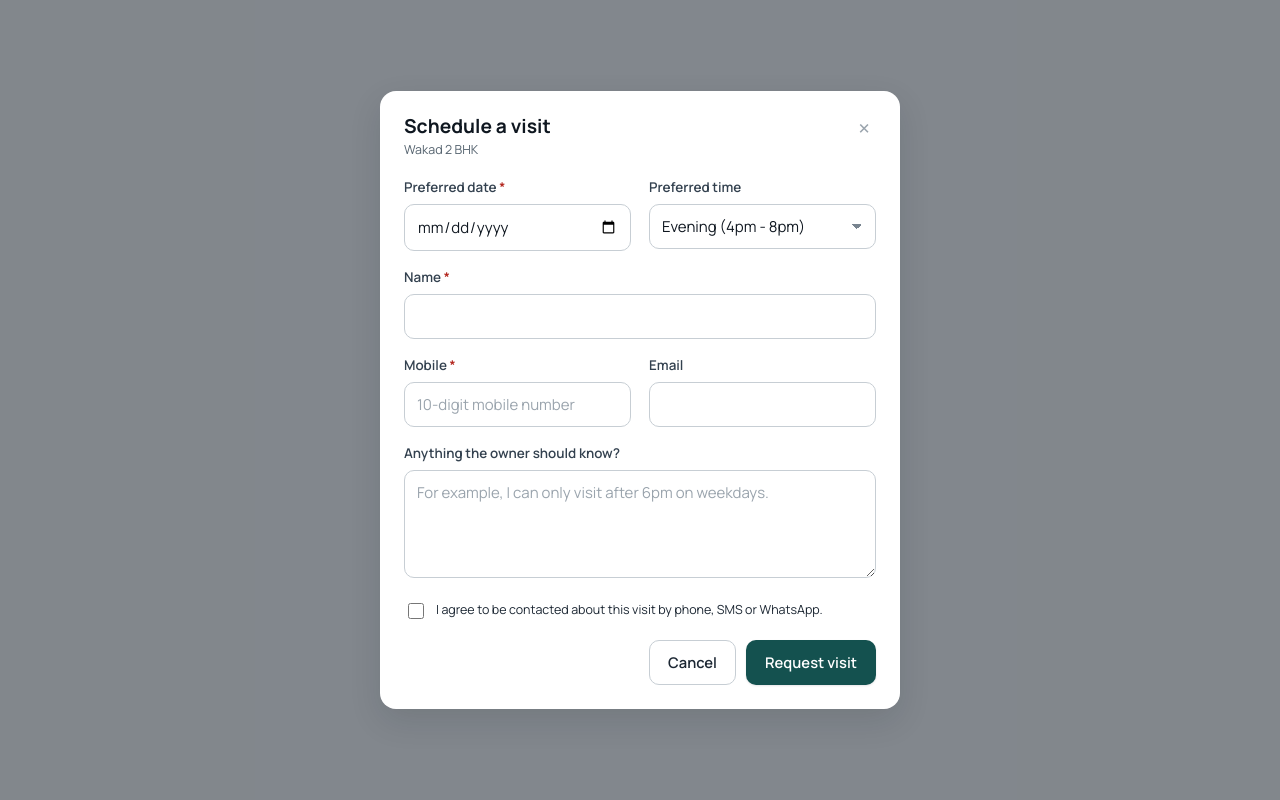
VisitRequestModal › confirms rather than leaving the form on screen to be sent twice
Type "2026-10-01" into the date field labelled "Preferred date *" at {"x": 518, "y": 228}, box [404,204,631,251]
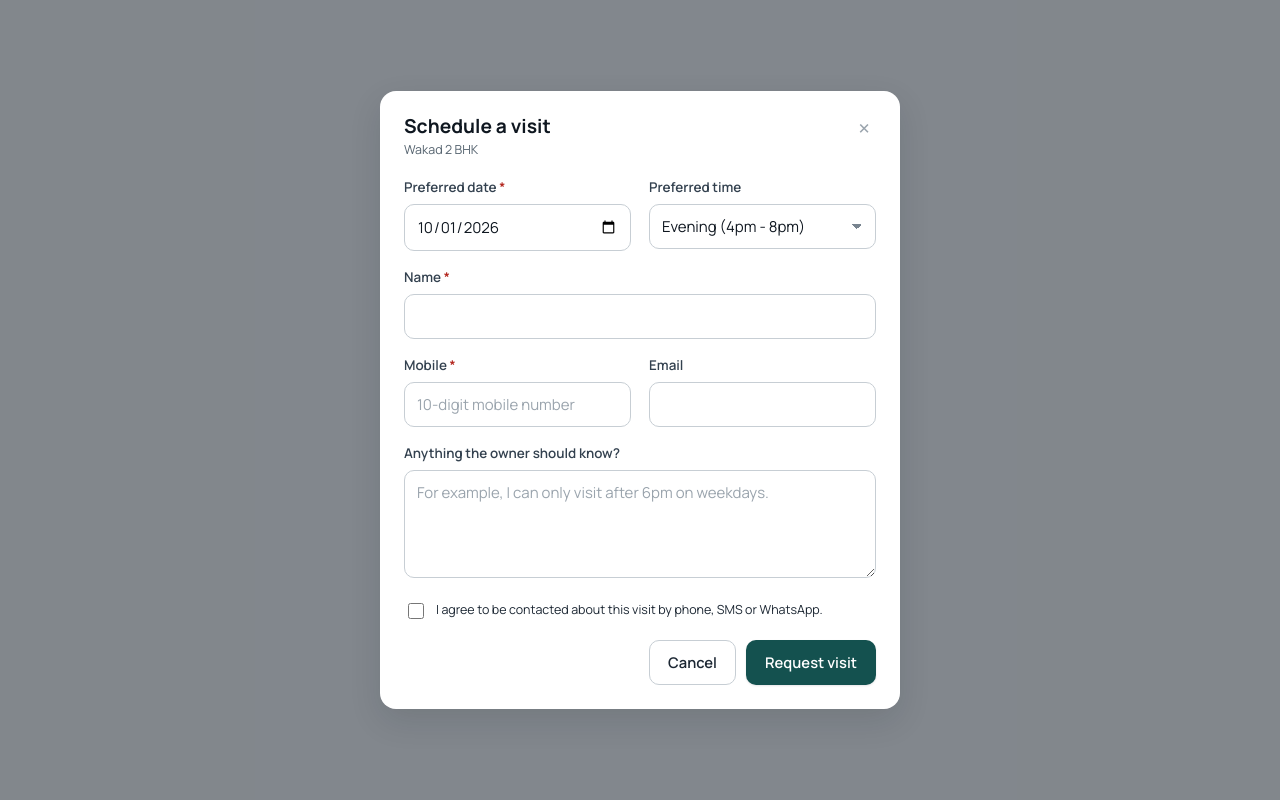
Type "Anjali Rao" into the field labelled "Name *" at {"x": 640, "y": 317}, box [404,294,876,339]
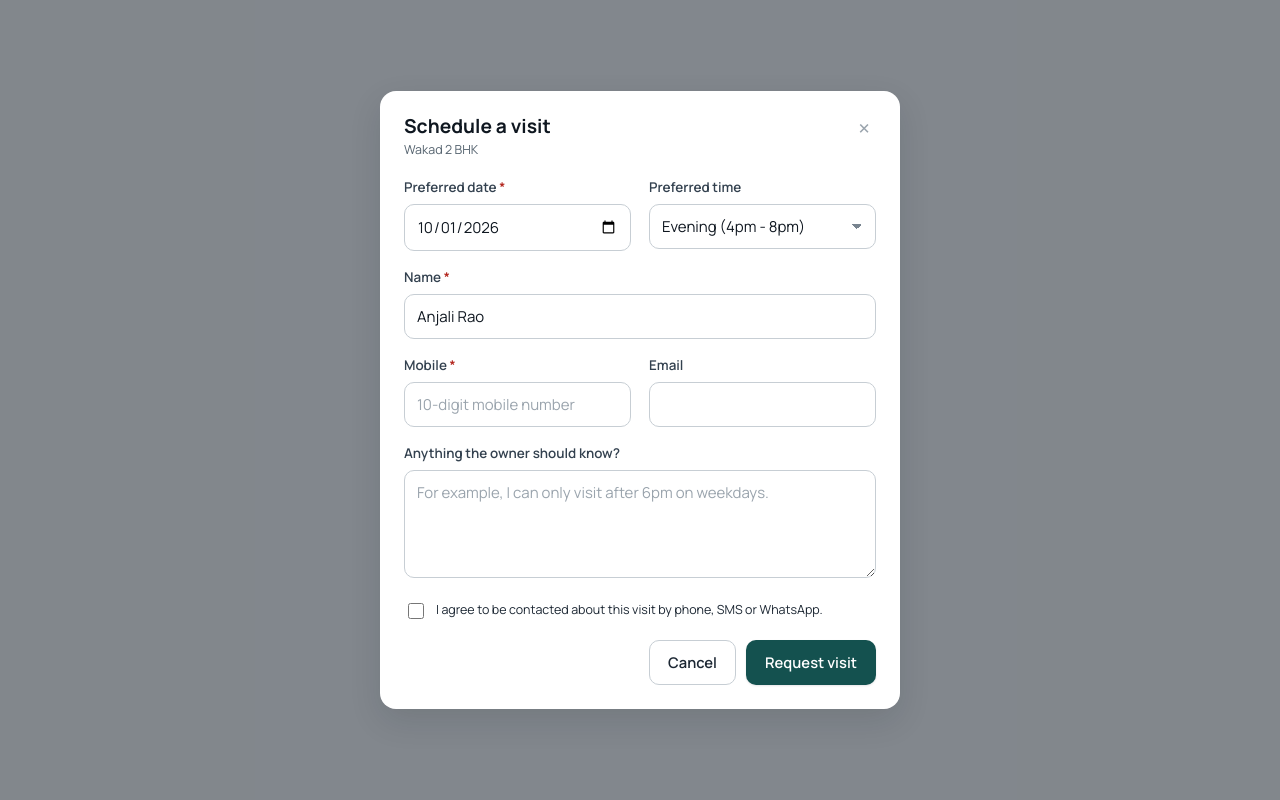
Type "9812340001" into the field labelled "Mobile *" at {"x": 518, "y": 405}, box [404,382,631,427]
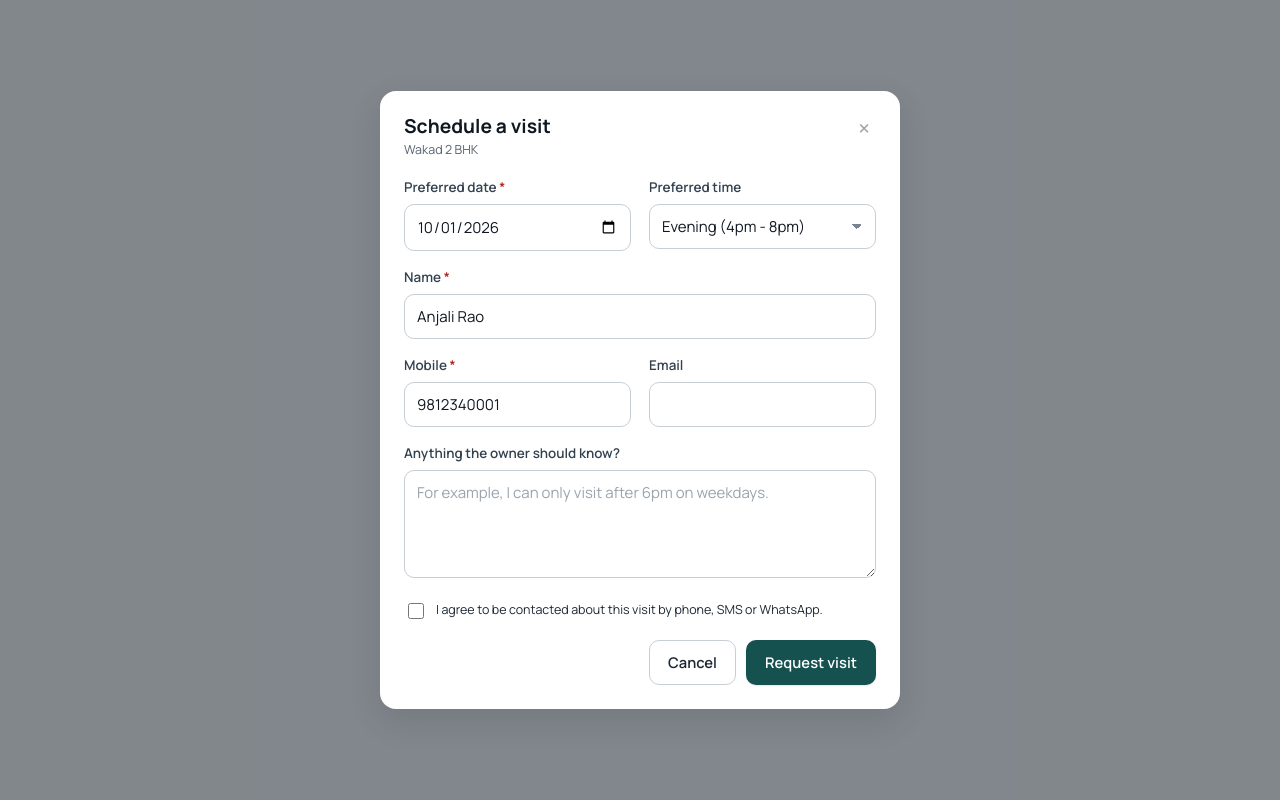
Click the checkbox at {"x": 416, "y": 611}, box [408,603,424,619]
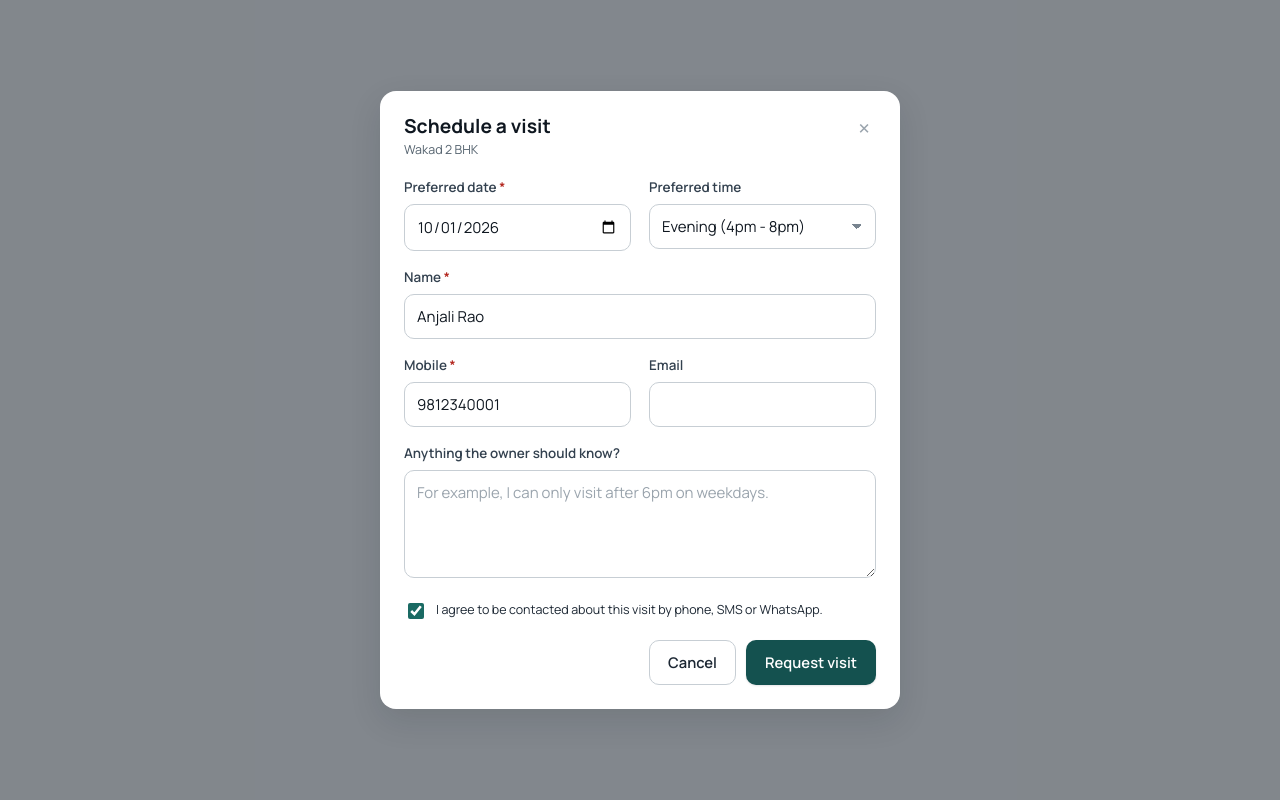
Submit the form, box [404,177,876,685]
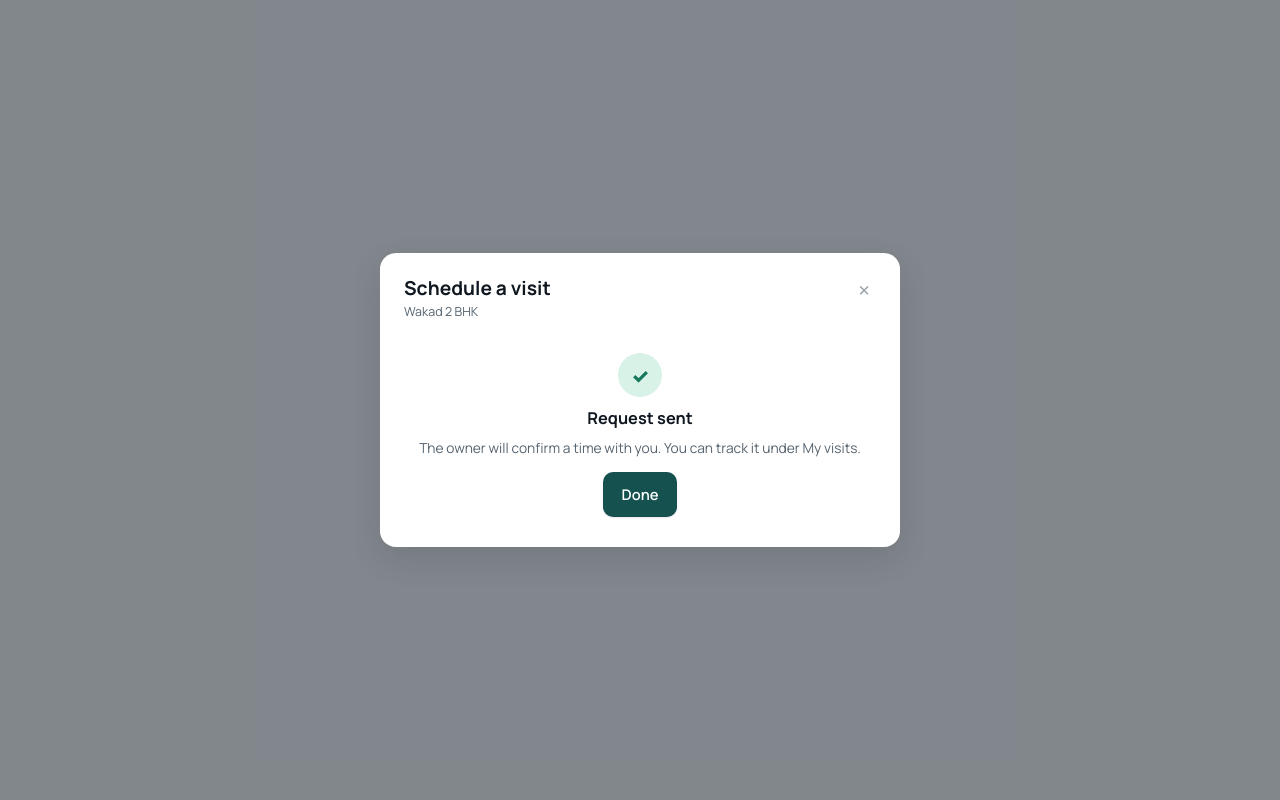
expect the text "Request sent" is shown: met, box [587,407,693,429]
